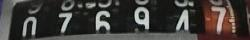digits: (203, 0, 233, 36), (165, 3, 194, 40), (133, 7, 151, 38), (92, 11, 111, 38), (21, 16, 37, 35), (58, 12, 72, 32)
